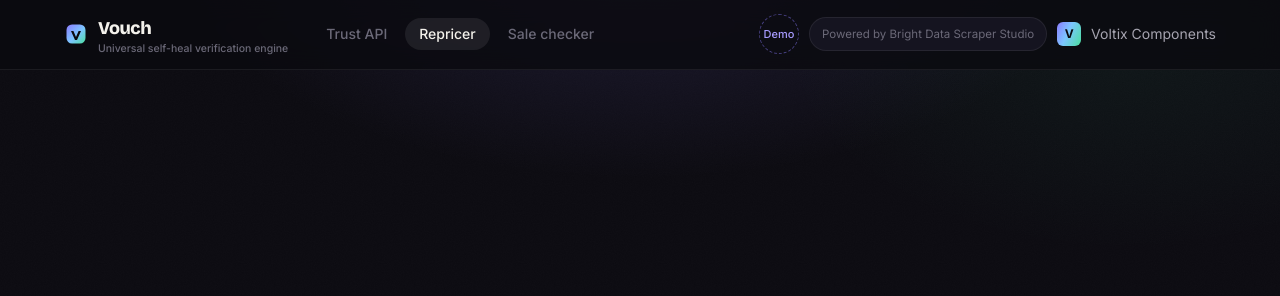
Test: Demo control › opens a menu with the expected items on click
Click the button "Demo" at coordinates (779, 34), box top-left (759, 14), bottom-right (799, 54)
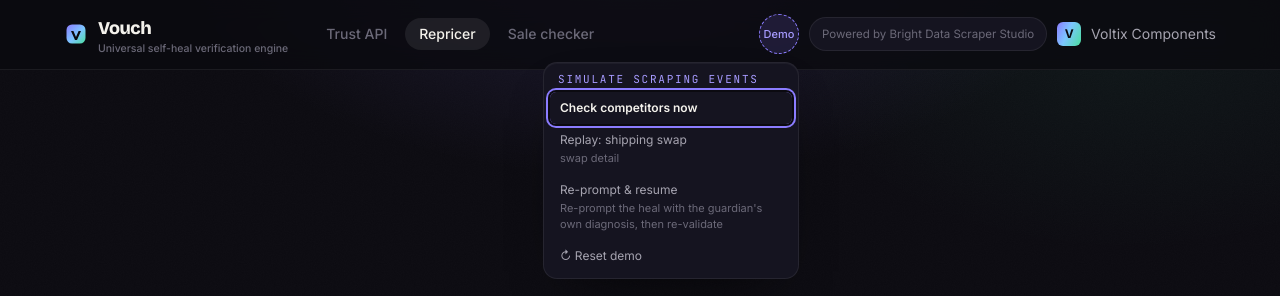
Check: the button "Demo" is expanded, box top-left (759, 14), bottom-right (799, 54)
Check: the menu is shown, box top-left (543, 62), bottom-right (799, 280)
